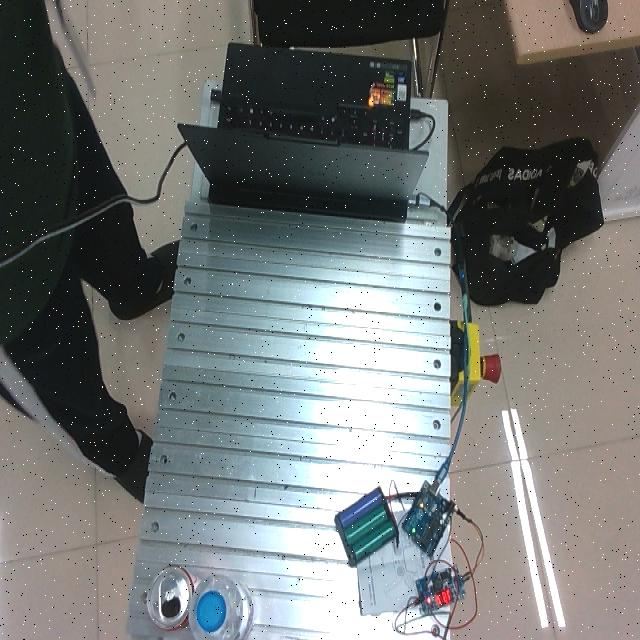lavie: (188, 572, 253, 640), (147, 564, 197, 631)
